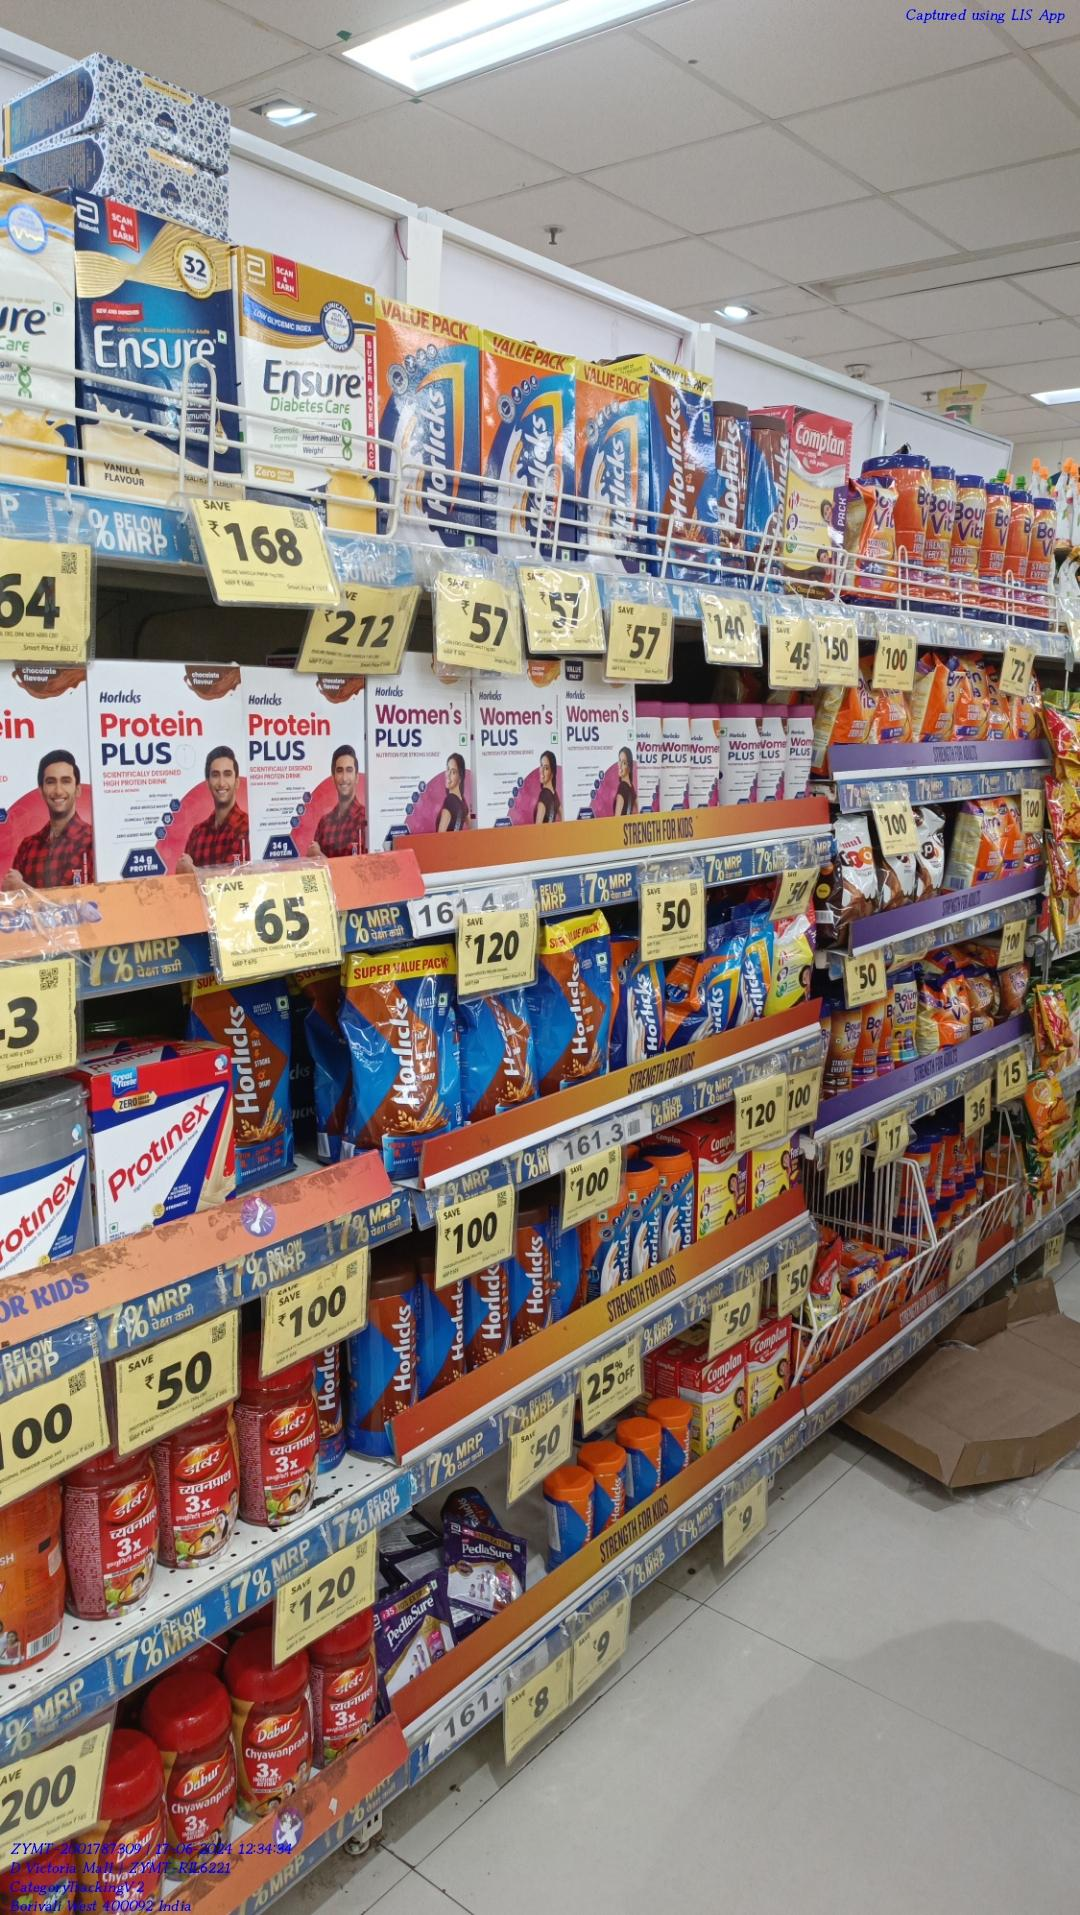BOURN_VITA_CHAMPS_500_G_JAR: (893, 971, 917, 1068)
ENSURE_VANILLA_400_G_PACK: (83, 204, 232, 500)
